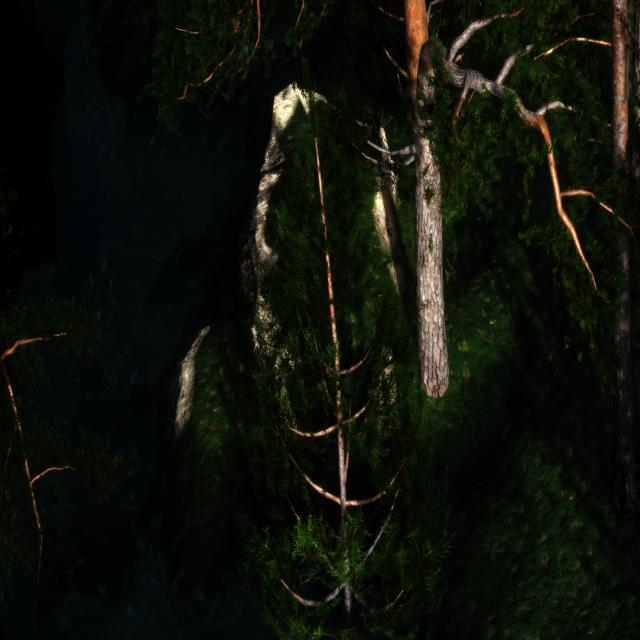Human: (200, 16, 253, 109)
